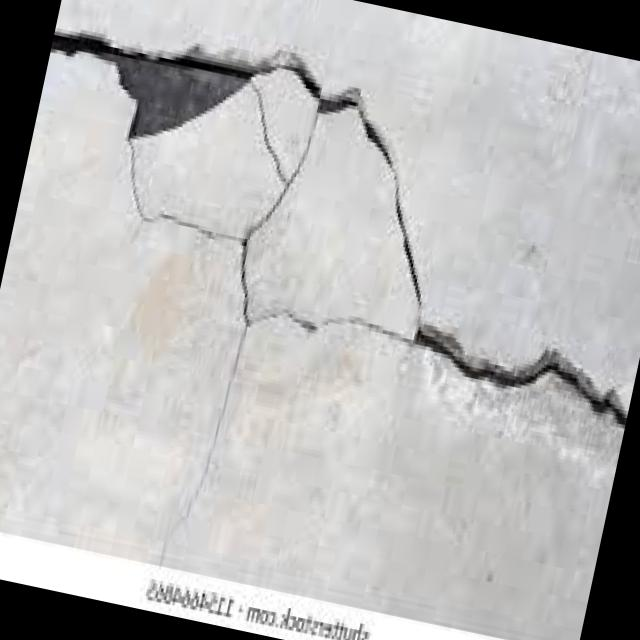crack: (2, 0, 640, 421), (160, 312, 255, 568)
